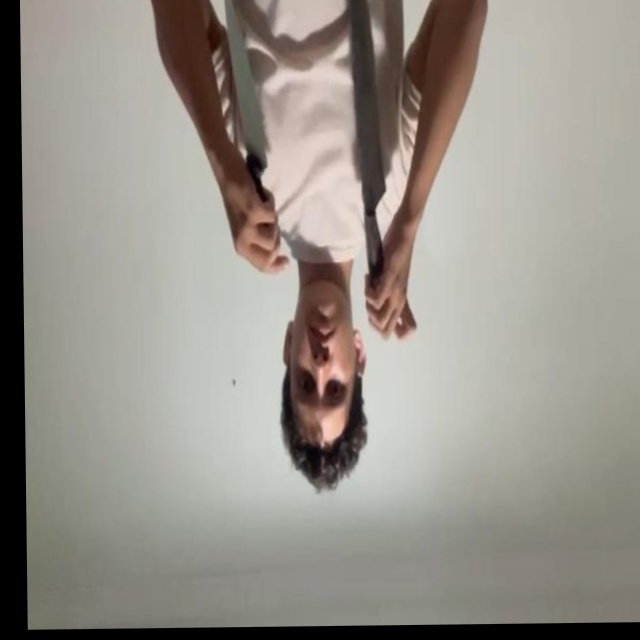Sharp-Object: (223, 0, 267, 173), (351, 0, 385, 207)
